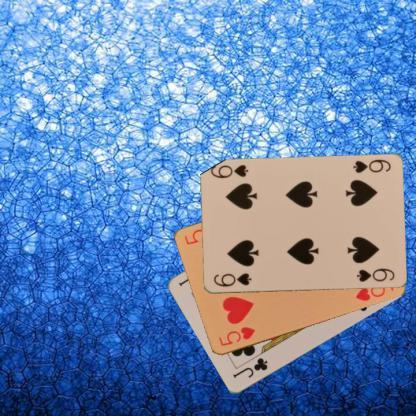5h: (216, 324, 257, 348)
6s: (210, 270, 252, 288), (350, 156, 392, 174)
Jc: (230, 355, 270, 380)
